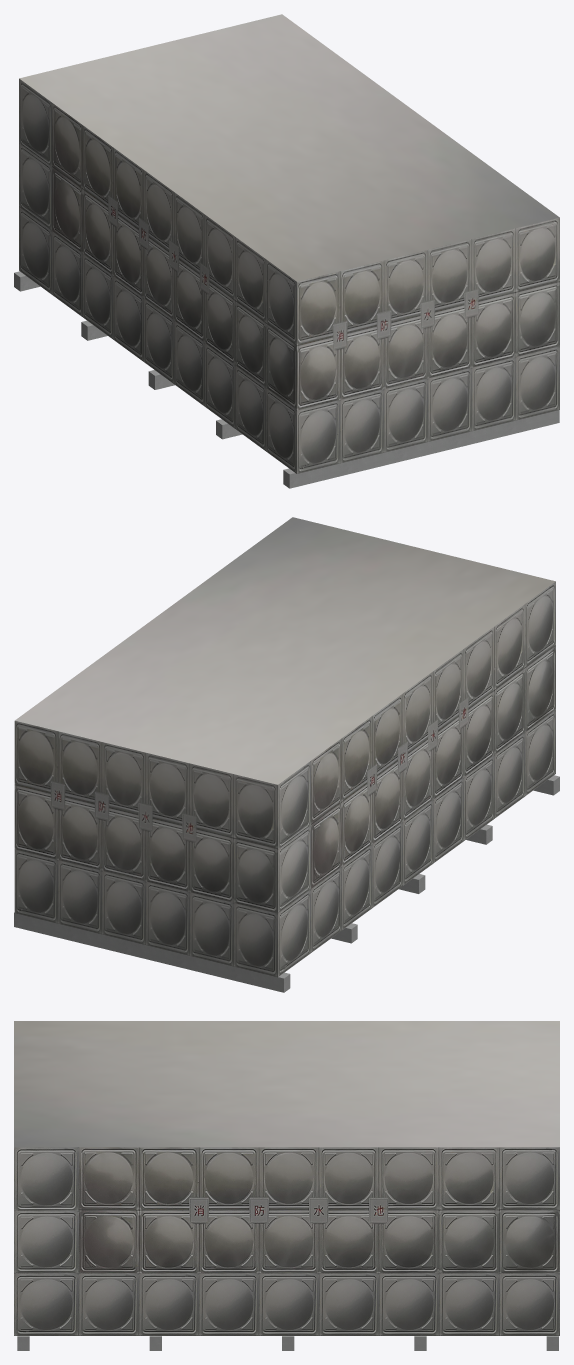
Rendered from CK-xiaofangshuichi01-JZ.FBX.
The picture shows the model from 3 angles, top to bottom: view 1: azimuth 30°, elevation 25°; view 2: azimuth 150°, elevation 25°; view 3: azimuth 270°, elevation 25°; orthographic projection.
Parts seen in each view (by area): view 1: CK-xiaofangshuichi01-JZ; view 2: CK-xiaofangshuichi01-JZ; view 3: CK-xiaofangshuichi01-JZ.
Part boxes in pixels (bbox=[...]): CK-xiaofangshuichi01-JZ: bbox=[14, 14, 559, 488]; CK-xiaofangshuichi01-JZ: bbox=[14, 517, 559, 992]; CK-xiaofangshuichi01-JZ: bbox=[14, 1021, 559, 1350].
Bounding box in the file's own units: 4.94 × 3.62 × 8.81.
2 materials, 2 textured.
